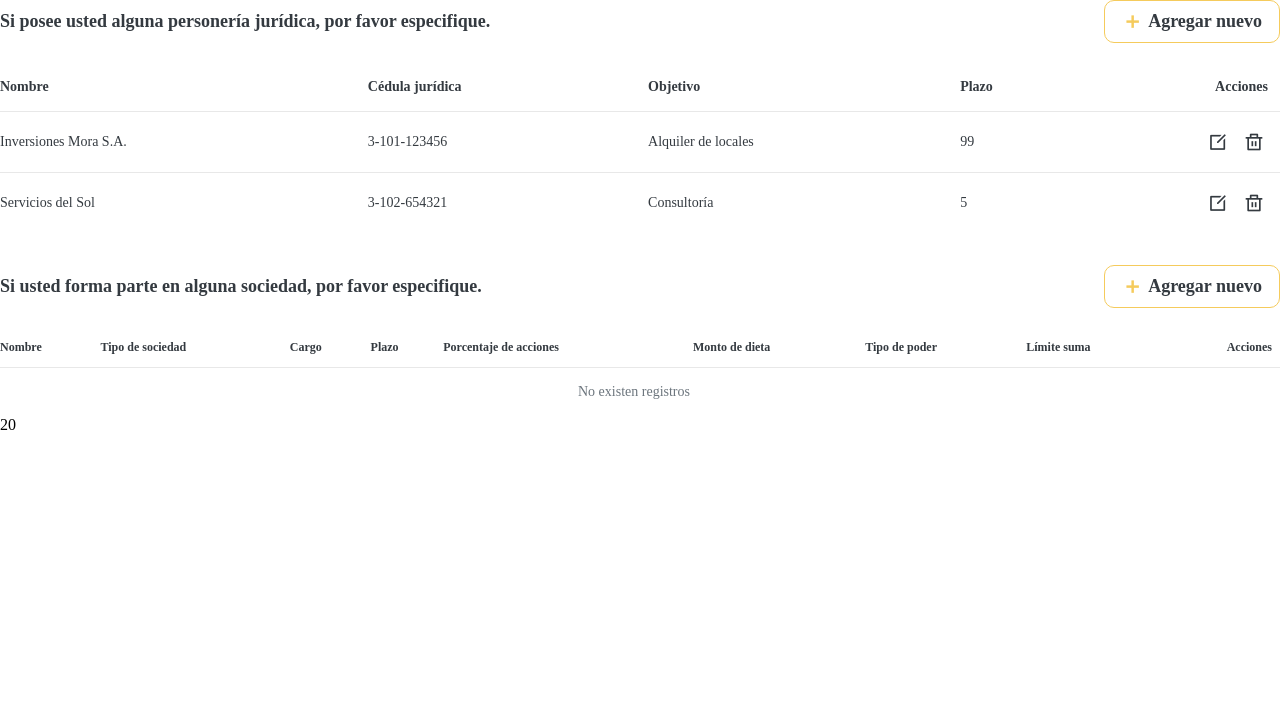
LegalEntities (paso 10) › removes a legal entity and confirms with a notification
This screenshot has width=1280, height=720.
What coordinates should you click on to do the following:
click the button named "Eliminar personería Servicios del Sol"
I would click on:
 (1254, 203)
Its box is top-left (1240, 189), bottom-right (1268, 217).
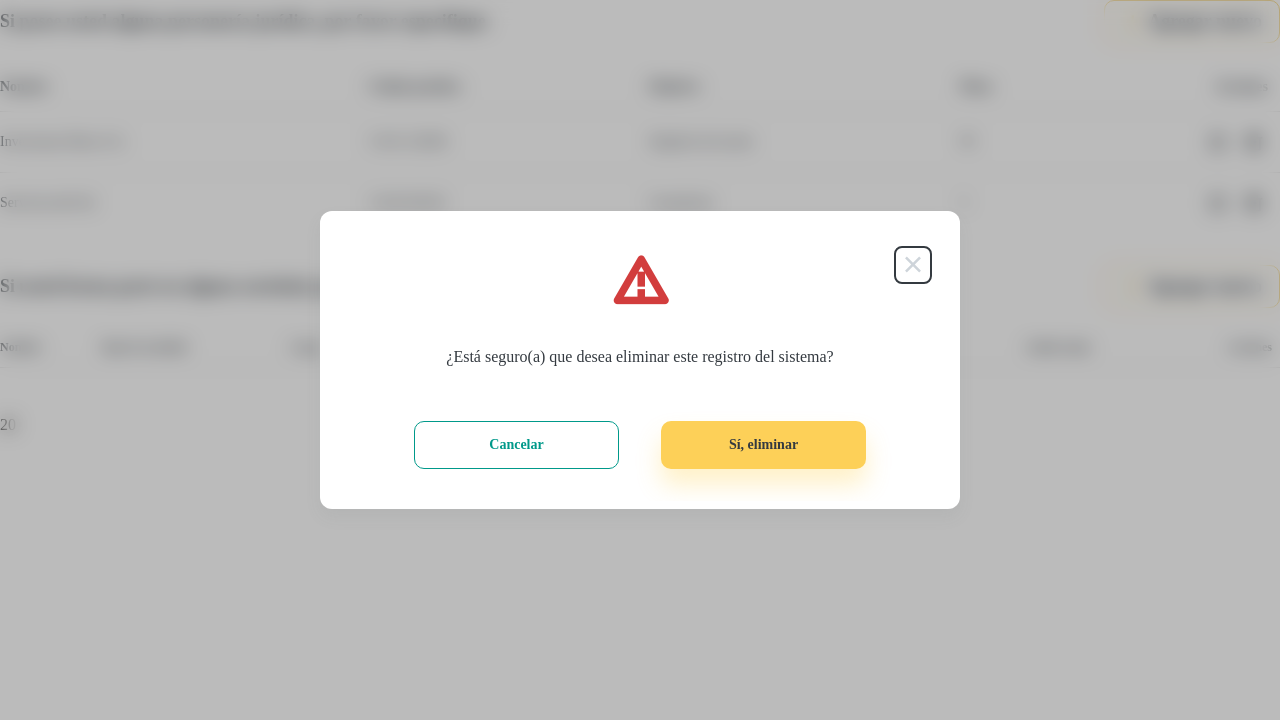
What coordinates should you click on to do the following:
click the button "Sí, eliminar"
I would click on:
 (764, 445)
Its box is top-left (661, 421), bottom-right (866, 469).
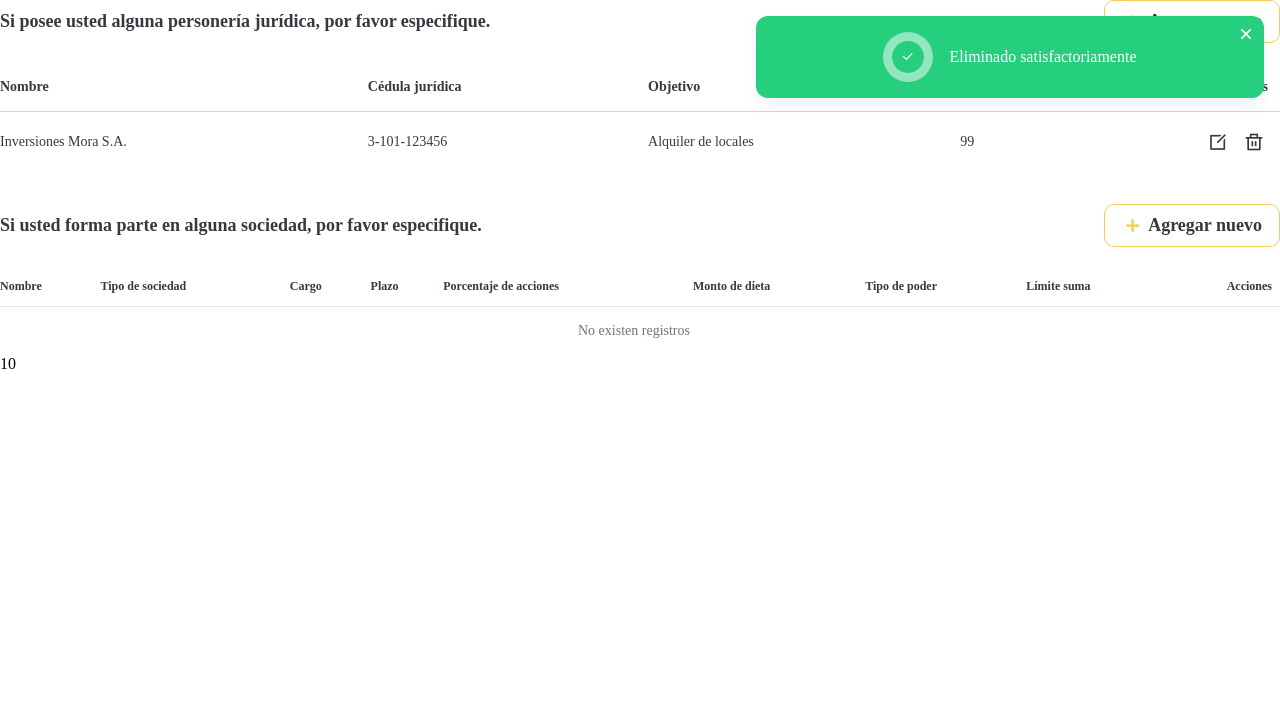
Now the text "Servicios del Sol" is gone
Now the text with test id "count" reads "1", box top-left (0, 355), bottom-right (8, 372)
Now the text "Eliminado satisfactoriamente" is shown, box top-left (950, 47), bottom-right (1136, 67)
